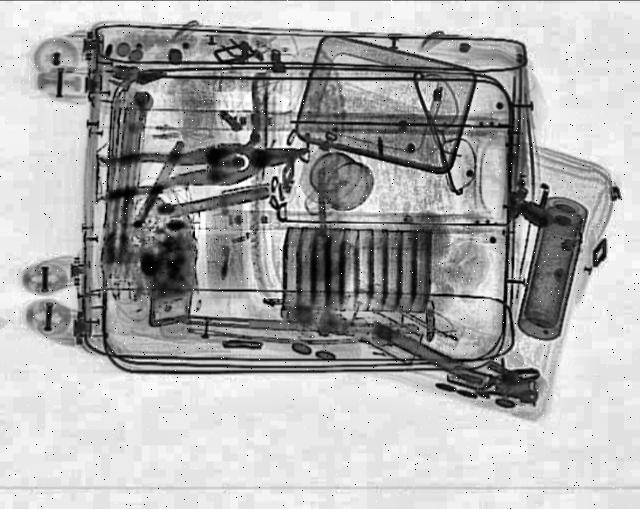Wrench: (160, 134, 316, 194)
